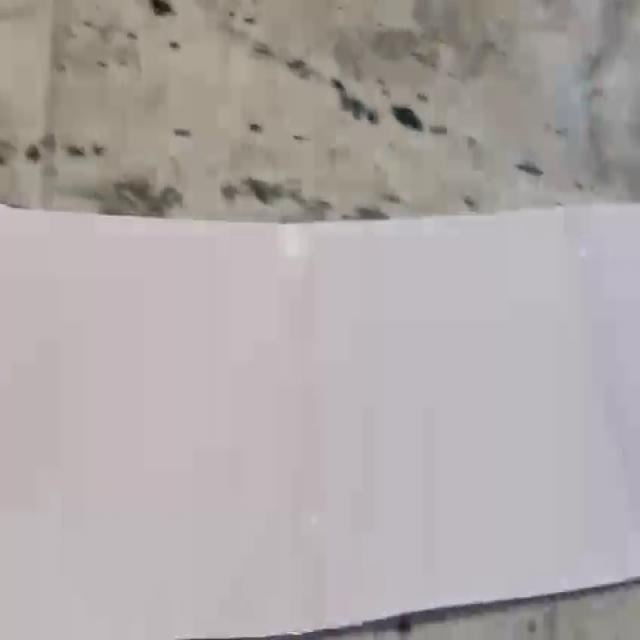road: (0, 204, 640, 640)
